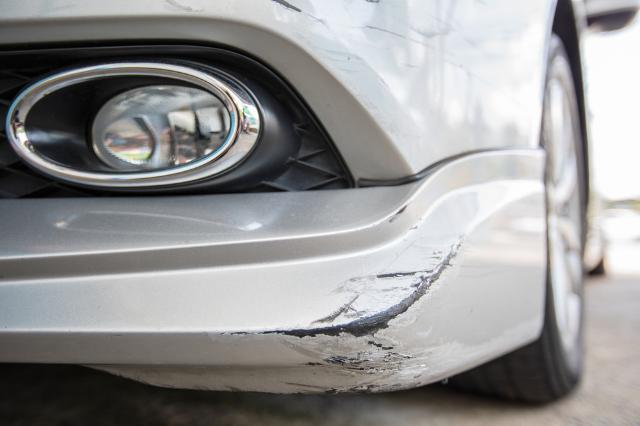scratch: (203, 227, 474, 395), (267, 0, 453, 80)
